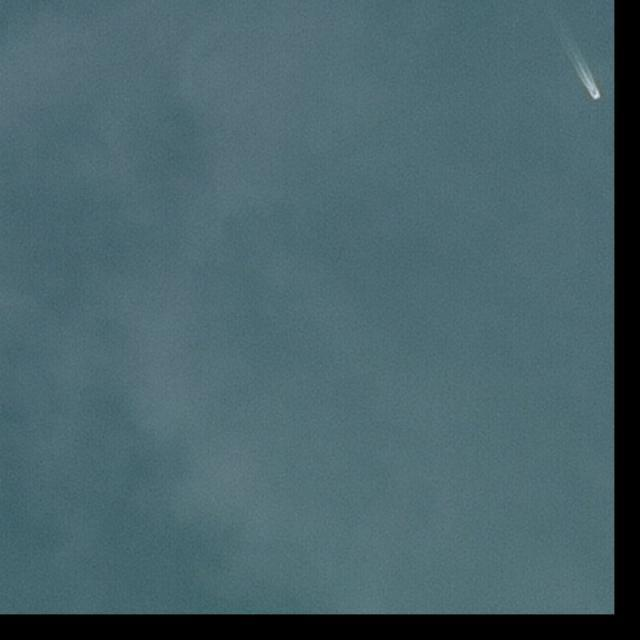ship: (592, 93, 600, 102)
